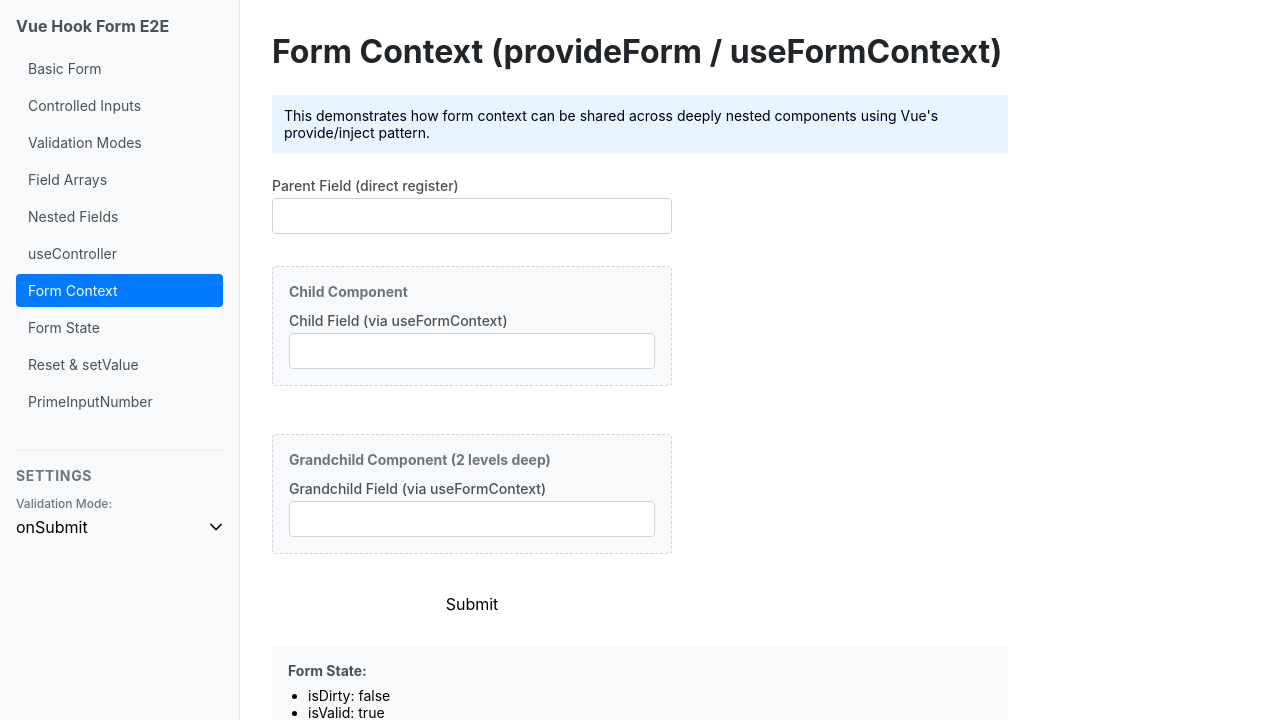
Test: Form Context › should register fields from child components via useFormContext
The image size is (1280, 720).
Type "Parent Value" into the field with test id "parent-field".
click(472, 216); type("Parent Value")  # box [272,198,672,234]
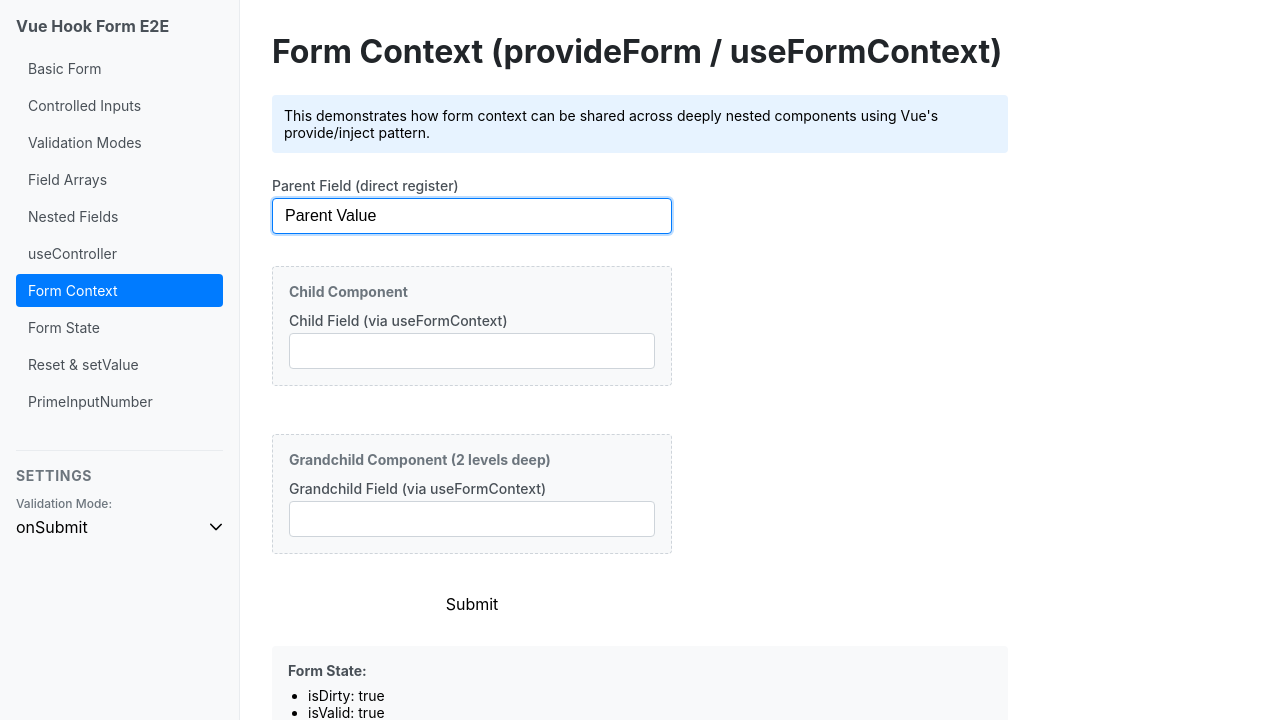
Type "Child Value" into the field with test id "child-field".
click(472, 351); type("Child Value")  # box [289,333,655,369]
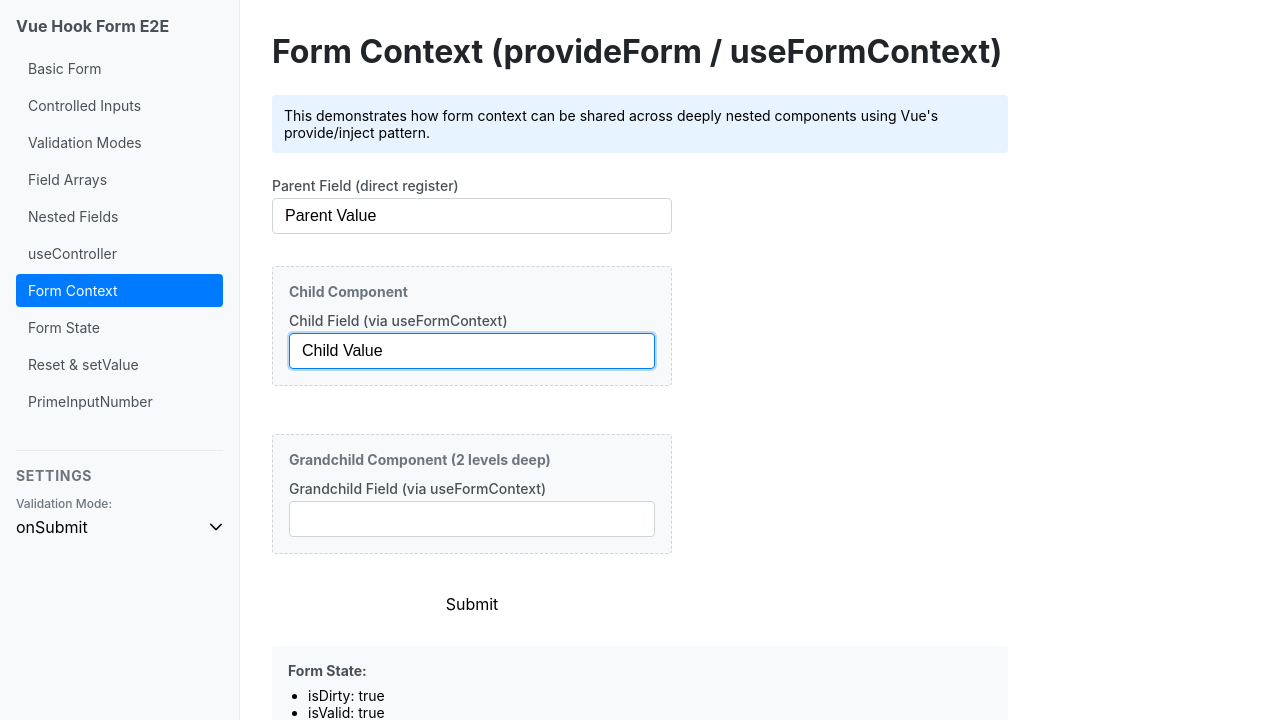
Type "Grandchild Value" into the field with test id "grandchild-field".
click(472, 519); type("Grandchild Value")  # box [289,501,655,537]
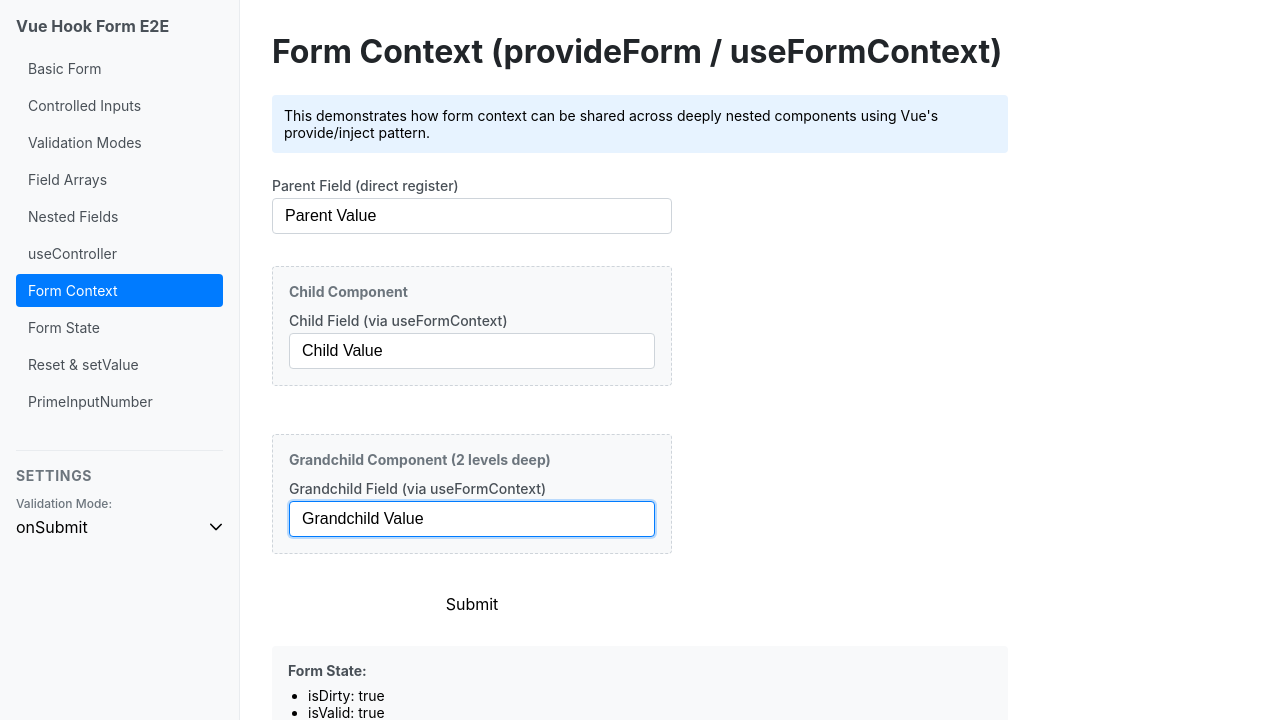
Click the button with test id "submit-button".
click(472, 604)  # box [272,594,672,614]
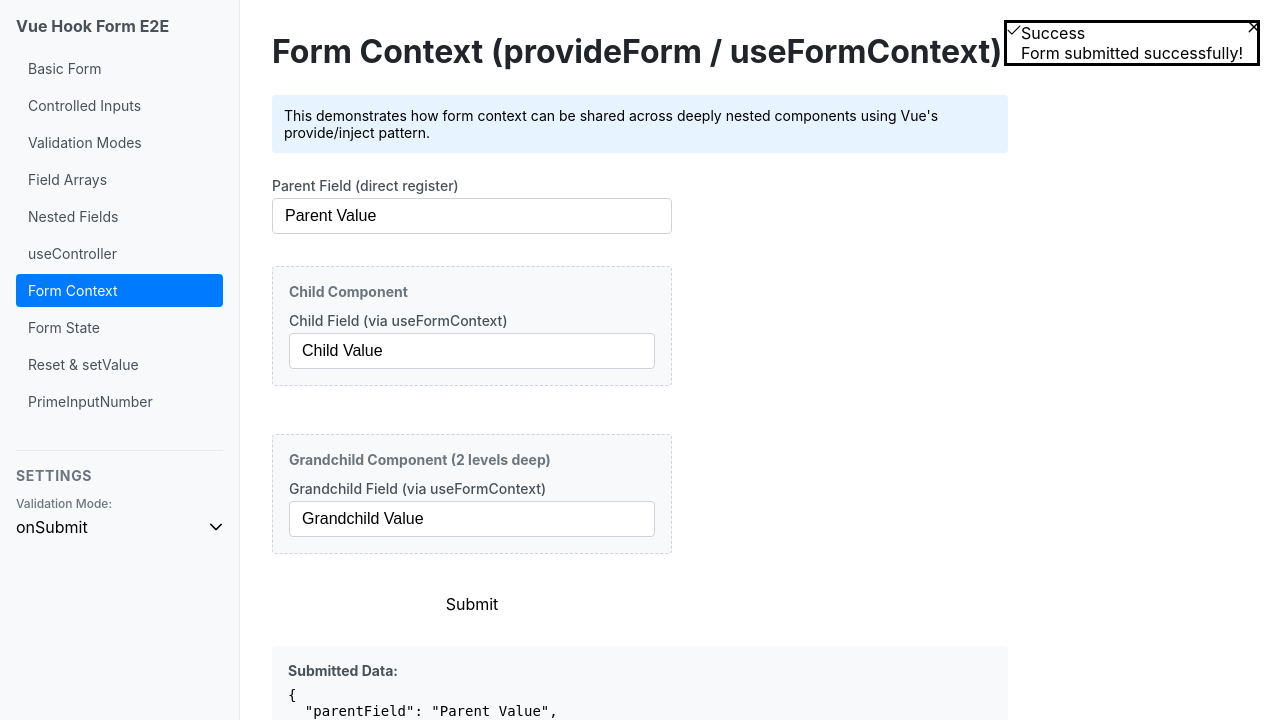
Expected: the text with test id "submitted-data" shows "Parent Value", [288,687,617,719]
Expected: the text with test id "submitted-data" shows "Child Value", [288,687,617,719]
Expected: the text with test id "submitted-data" shows "Grandchild Value", [288,687,617,719]
